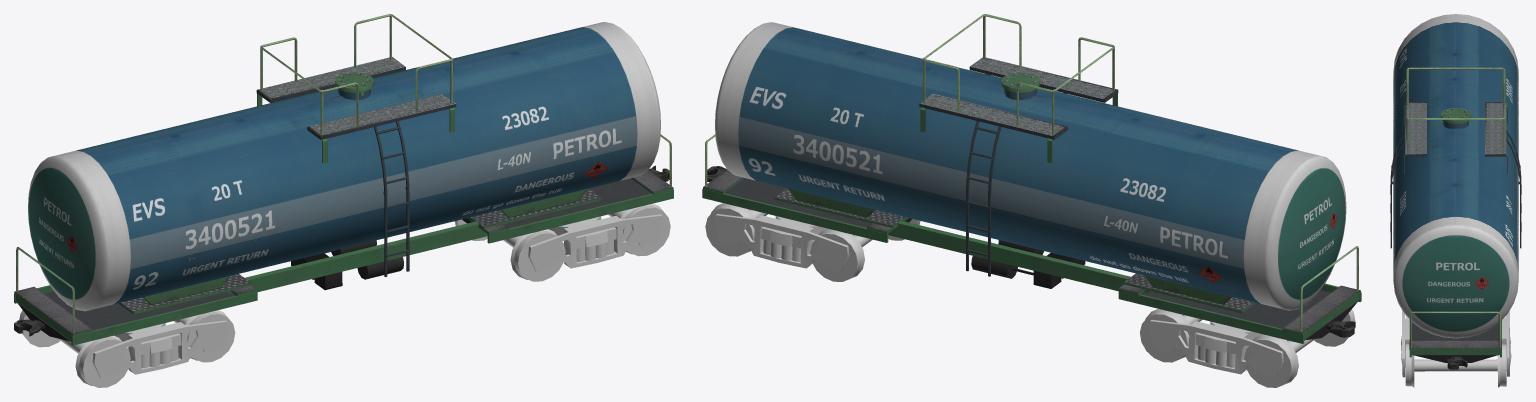
File: TrainTank02.FBX
3 renders of one model, left to right at view 1: azimuth 30°, elevation 25°; view 2: azimuth 150°, elevation 25°; view 3: azimuth 270°, elevation 25°, orthographic. The views are drawn at different scales.
Parts seen in each view (by area): view 1: TrainTank02, TrainTank0Wheels, TrainTank0DetailGreen, TrainTank0Down; view 2: TrainTank02, TrainTank0Wheels, TrainTank0DetailGreen, TrainTank0Down; view 3: TrainTank02, TrainTank0Wheels, TrainTank0DetailGreen, TrainTank0Down.
Part boxes in pixels (<box>): TrainTank02: <box>16,14,671,333</box>; TrainTank0Wheels: <box>19,203,670,387</box>; TrainTank0DetailGreen: <box>14,170,673,345</box>; TrainTank0Down: <box>14,165,669,341</box>; TrainTank02: <box>705,14,1358,332</box>; TrainTank0Wheels: <box>705,203,1355,387</box>; TrainTank0DetailGreen: <box>702,169,1361,343</box>; TrainTank0Down: <box>707,166,1359,340</box>; TrainTank02: <box>1390,14,1521,347</box>; TrainTank0Wheels: <box>1401,310,1511,387</box>; TrainTank0DetailGreen: <box>1409,320,1501,357</box>; TrainTank0Down: <box>1412,322,1498,369</box>.
Bounding box in the file's own units: 19420 × 7027 × 4327.
